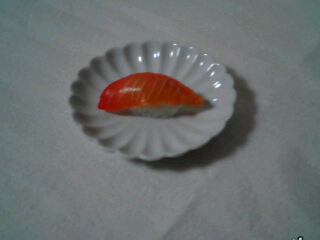002_classes: (99, 69, 208, 119)
